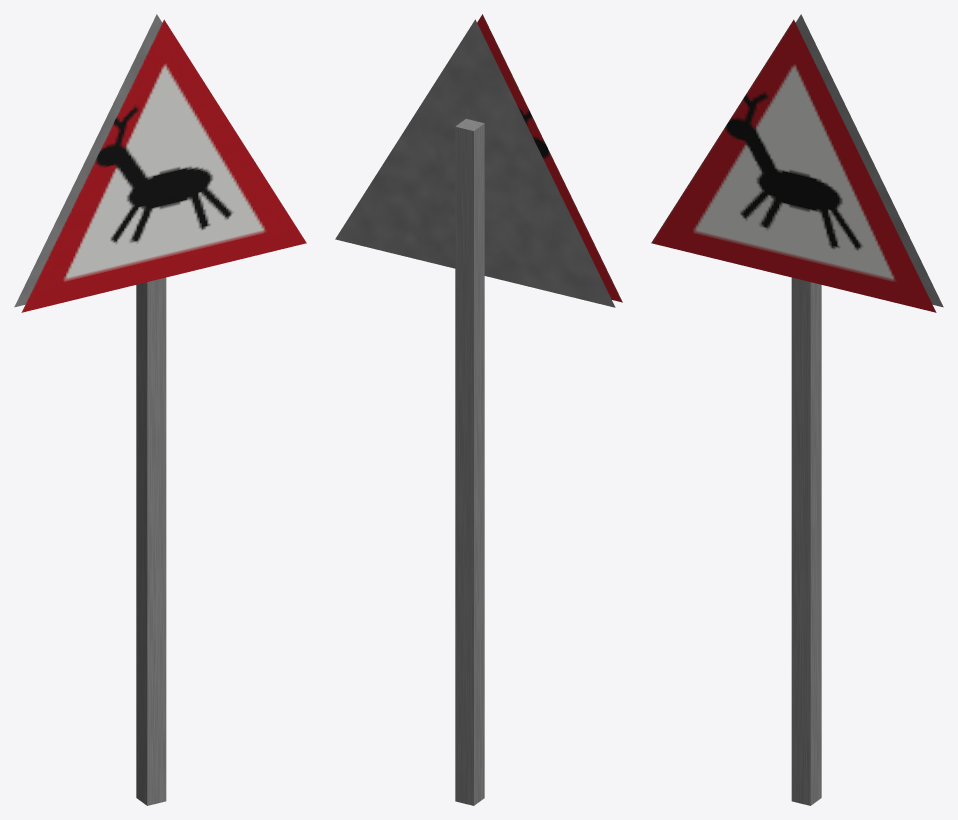
The model's file is SM_sign_deer.fbx.
3 renders of one model, left to right at view 1: azimuth 30°, elevation 25°; view 2: azimuth 150°, elevation 25°; view 3: azimuth 330°, elevation 25°, orthographic.
Visible parts, largest first — view 1: SM_sign_deer; view 2: SM_sign_deer; view 3: SM_sign_deer.
Part boxes in pixels (box(x1,y1,x2,y2)): SM_sign_deer: box(14, 14, 306, 805); SM_sign_deer: box(335, 14, 622, 805); SM_sign_deer: box(651, 14, 943, 805).
Bounding box in the file's own units: 0.9 × 2.38 × 0.1.
